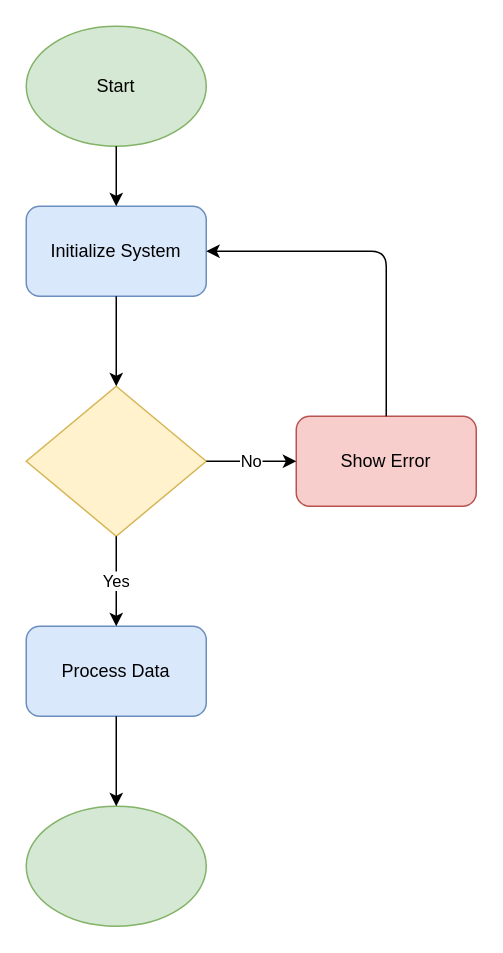
This 503x953 diagram has some shape labels left out. Here are the shapes that lost their labels. From the top down, the box of each, then its label:
(25, 385, 206, 536): Valid Input?
(25, 805, 206, 926): End
